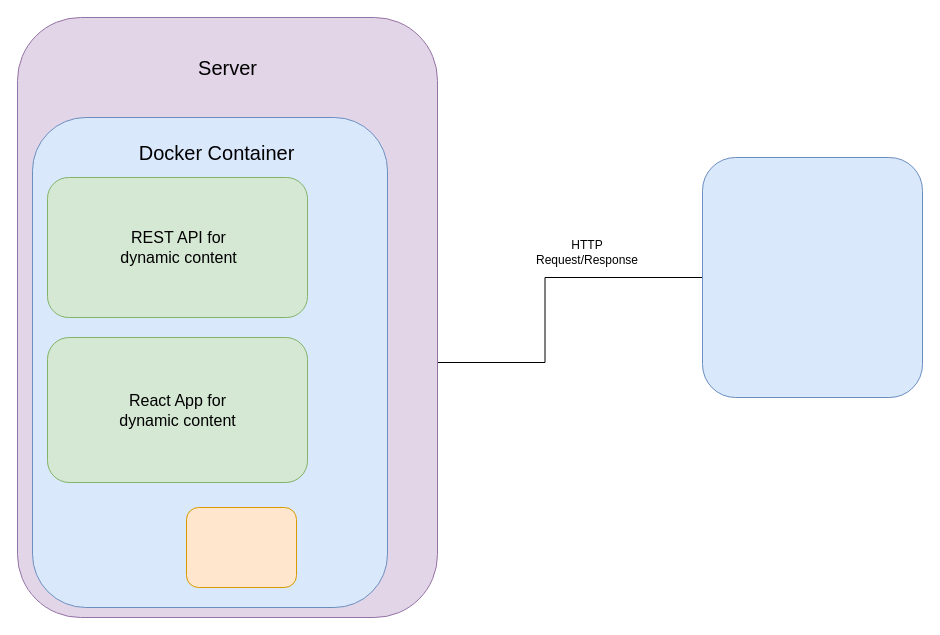
Image size: 940x635. Some labels were removed from this diagram. The shapes that lost their labels are listed below. From the top down, each one's centre as x and y in pixels, then its label:
At [812,277]: "User - Web Browser".
At [241,547]: "Database".
